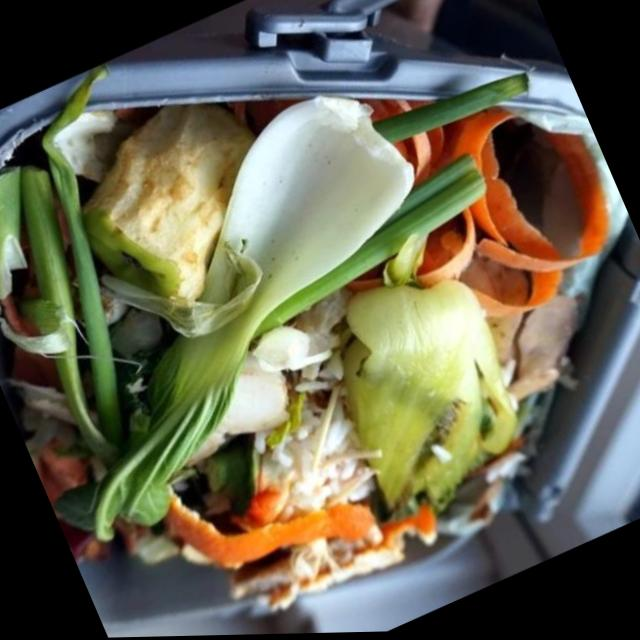organic: (0, 10, 526, 565), (344, 239, 571, 513), (165, 385, 432, 607), (45, 105, 261, 335), (374, 69, 528, 141)
